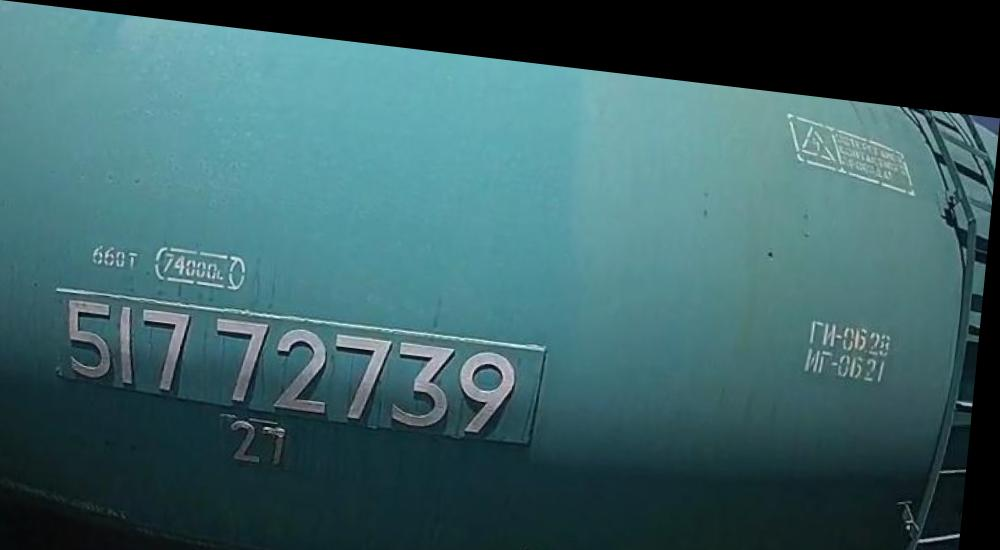Wagon-number: (64, 289, 530, 433)
